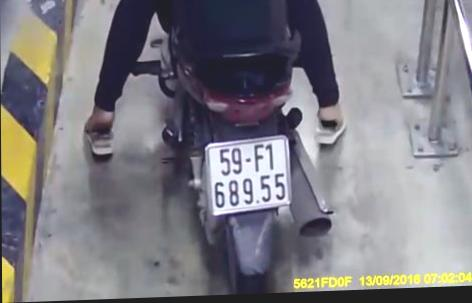License_Plate: (197, 129, 305, 225)
